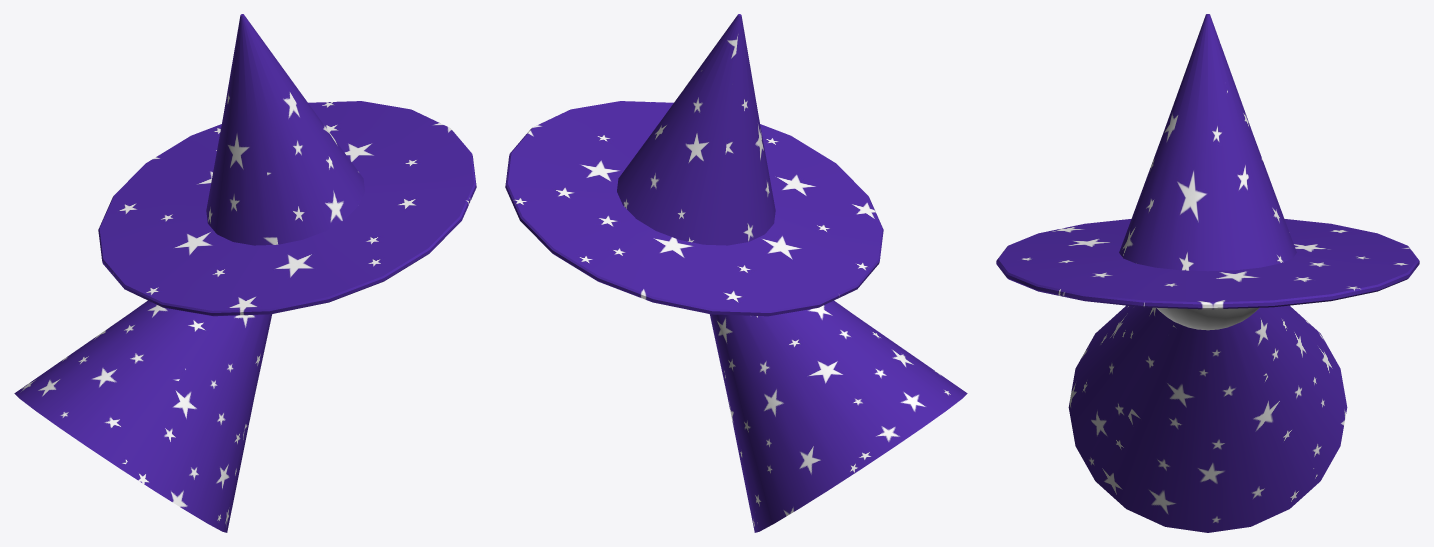
The model's file is wizard import.fbx.
The picture shows the model from 3 angles, left to right: view 1: azimuth 30°, elevation 25°; view 2: azimuth 150°, elevation 25°; view 3: azimuth 270°, elevation 25°; orthographic projection. The views are drawn at different scales.
Visible parts, largest first — view 1: wizard; view 2: wizard; view 3: wizard.
Boxes of the visible parts, x1,y1,x2,y2 form: wizard: (14, 14, 476, 532); wizard: (505, 14, 967, 532); wizard: (996, 14, 1419, 532).
Size of the model in its own units: 2.48 by 2.81 by 2.
